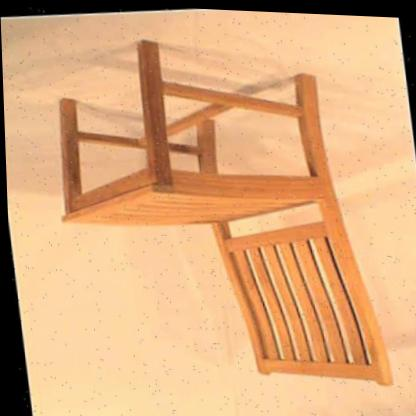Chair: (15, 2, 408, 416)
